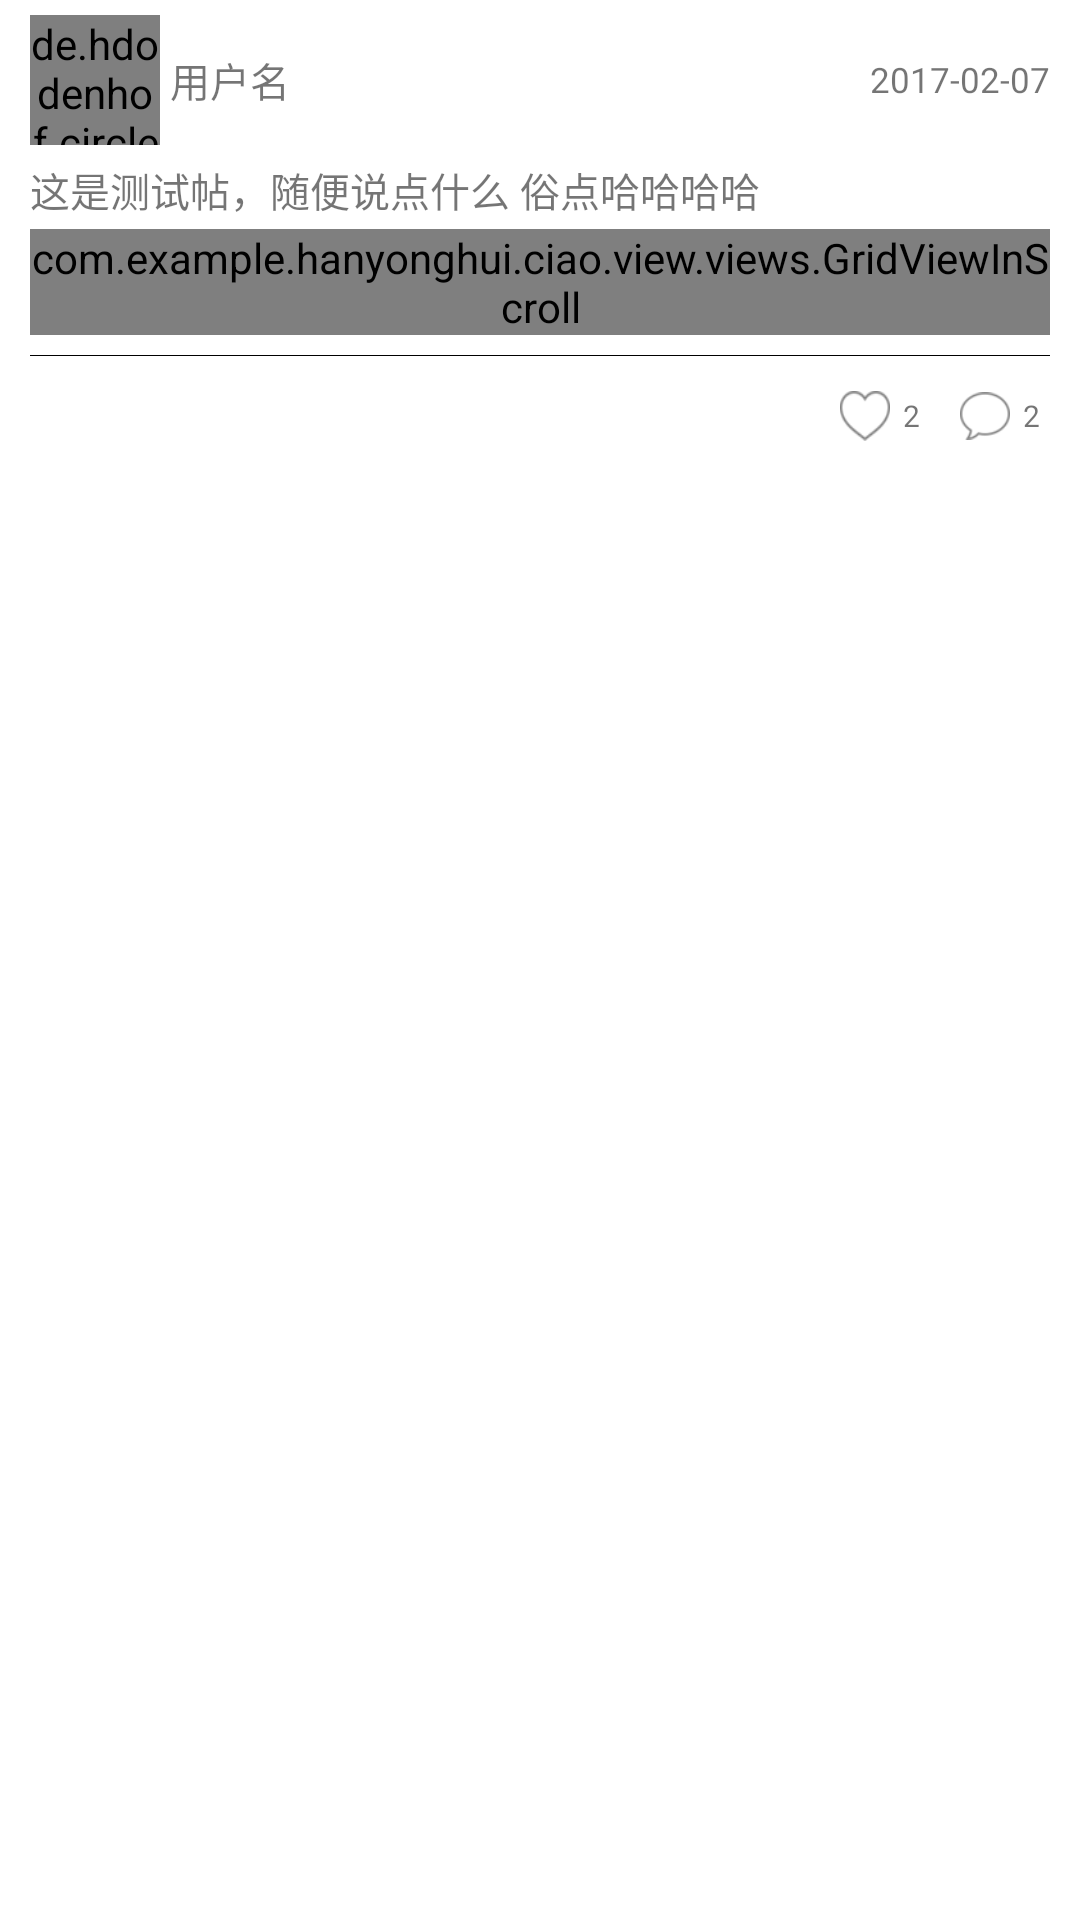

Screen size 1080*1920. Icon name, then its box in pixels as bbox=(x1, y1, x2, y2):
commentaries: bbox=(960, 392, 1010, 440)
